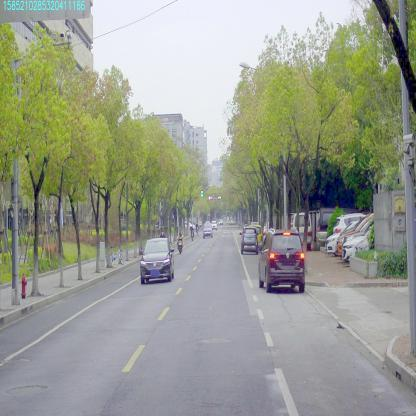traffic-light: (201, 189, 203, 197)
